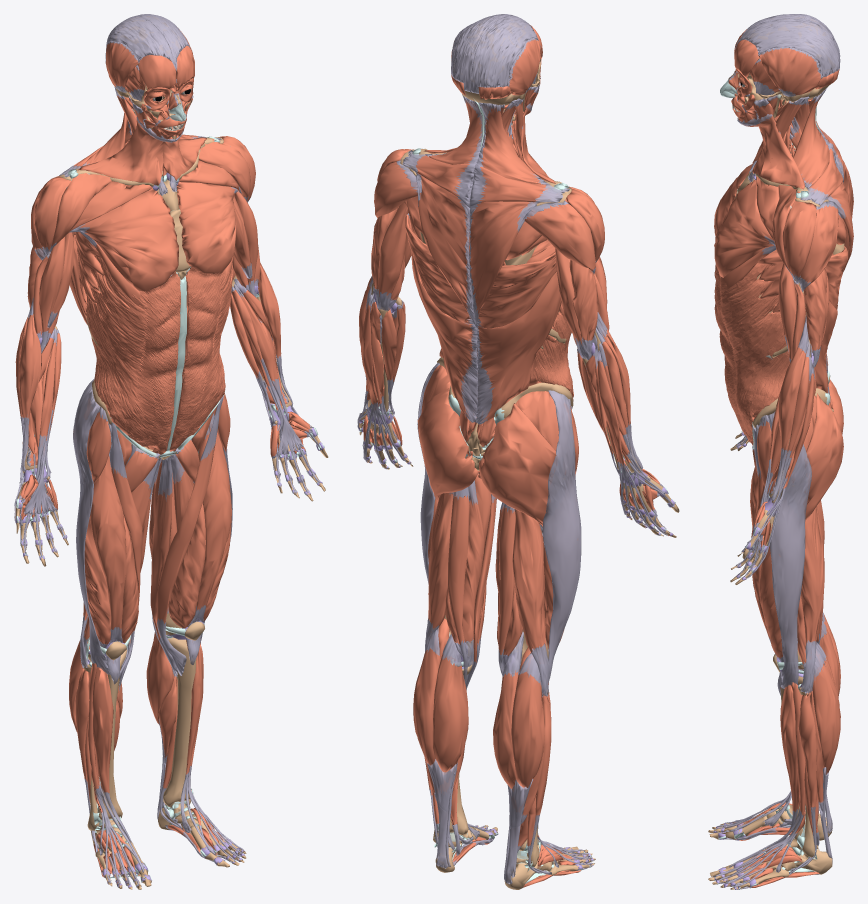
Rendered from muscle.glb.
3 renders of one model, left to right at view 1: azimuth 30°, elevation 25°; view 2: azimuth 150°, elevation 25°; view 3: azimuth 270°, elevation 25°, orthographic. The views are drawn at different scales.
Visible parts, largest first — view 1: Object_3, Object_9; view 2: Object_3, Object_9; view 3: Object_3, Object_9.
Part boxes in pixels (bbox=[...]): Object_3: bbox=[15, 16, 328, 889]; Object_9: bbox=[14, 14, 320, 886]; Object_3: bbox=[358, 23, 679, 889]; Object_9: bbox=[357, 14, 674, 884]; Object_3: bbox=[708, 19, 853, 889]; Object_9: bbox=[713, 14, 845, 889].
Bounding box in the file's own units: 0.6682 × 1.7 × 0.2675.
2 materials, 2 textured.
